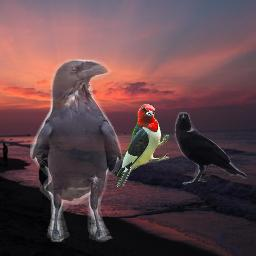Crow: (30, 59, 124, 242), (174, 112, 247, 185)
Woodpecker: (114, 103, 169, 187)
